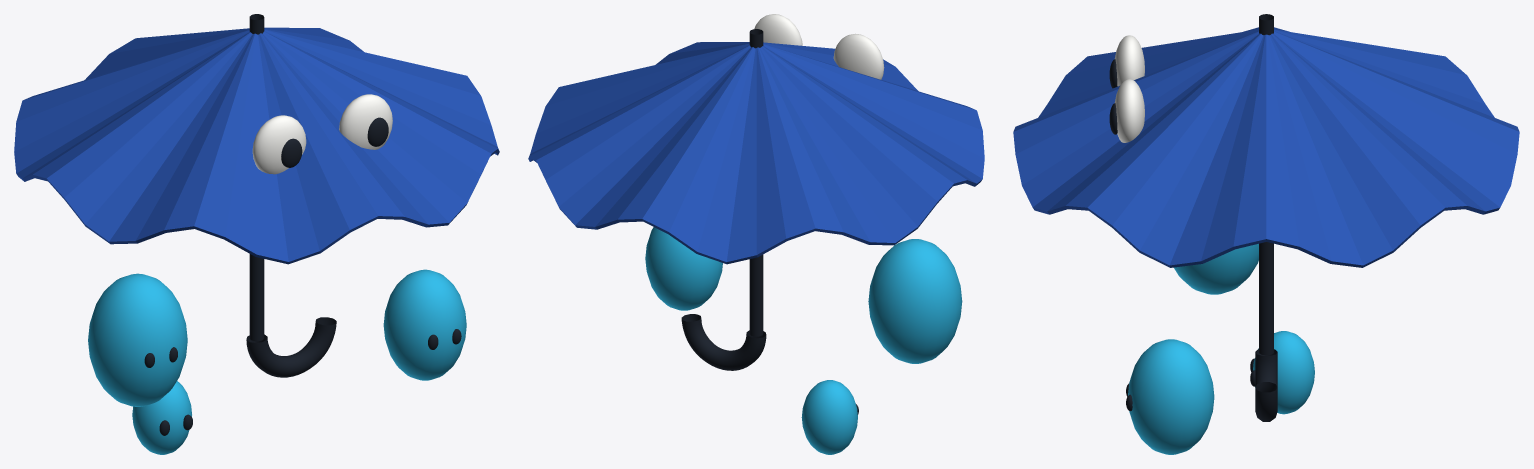
The model's file is rain.glb.
3 views of the same model, side by side, from view 1: azimuth 30°, elevation 25°; view 2: azimuth 150°, elevation 25°; view 3: azimuth 270°, elevation 25° (orthographic). The views are drawn at different scales.
Visible parts, largest first — view 1: PG umbrella canopy, PG raindrop, PG raindrop.001, PG raindrop.002, PG hook, PG umbrella white eye, PG umbrella white eye.001, PG stem, PG umbrella pupil.001, PG umbrella pupil; view 2: PG umbrella canopy, PG raindrop, PG raindrop.001, PG raindrop.002, PG hook, PG umbrella white eye, PG stem, PG umbrella white eye.001; view 3: PG umbrella canopy, PG raindrop.001, PG raindrop.002, PG raindrop, PG stem, PG hook, PG umbrella white eye.001, PG umbrella white eye.
Part boxes in pixels (x1,y1,x2,y2): PG umbrella canopy: (14, 27, 499, 264); PG raindrop: (88, 273, 187, 406); PG raindrop.001: (383, 269, 466, 380); PG raindrop.002: (132, 381, 191, 454); PG hook: (246, 317, 336, 377); PG umbrella white eye: (252, 115, 306, 174); PG umbrella white eye.001: (339, 94, 392, 149); PG stem: (249, 14, 264, 341); PG umbrella pupil.001: (367, 117, 388, 146); PG umbrella pupil: (281, 138, 302, 167); PG umbrella canopy: (528, 42, 984, 264); PG raindrop: (868, 239, 962, 363); PG raindrop.001: (645, 227, 722, 310); PG raindrop.002: (801, 380, 857, 454); PG hook: (681, 314, 766, 370); PG umbrella white eye: (833, 33, 884, 79); PG stem: (749, 29, 763, 336); PG umbrella white eye.001: (754, 14, 802, 45); PG umbrella canopy: (1013, 27, 1519, 267); PG raindrop.001: (1128, 339, 1214, 454); PG raindrop.002: (1253, 331, 1314, 414); PG raindrop: (1174, 243, 1258, 294); PG stem: (1259, 14, 1273, 355); PG hook: (1255, 349, 1277, 421); PG umbrella white eye.001: (1114, 79, 1144, 142); PG umbrella white eye: (1114, 35, 1144, 86).
Size of the model in its own units: 2.92 by 2.79 by 2.92.
